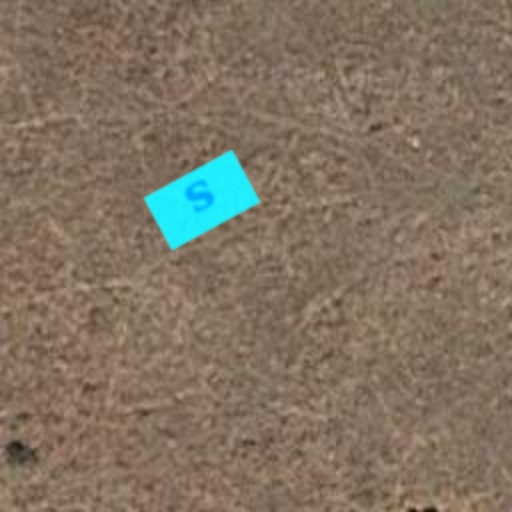rectangle: (132, 130, 272, 270)
